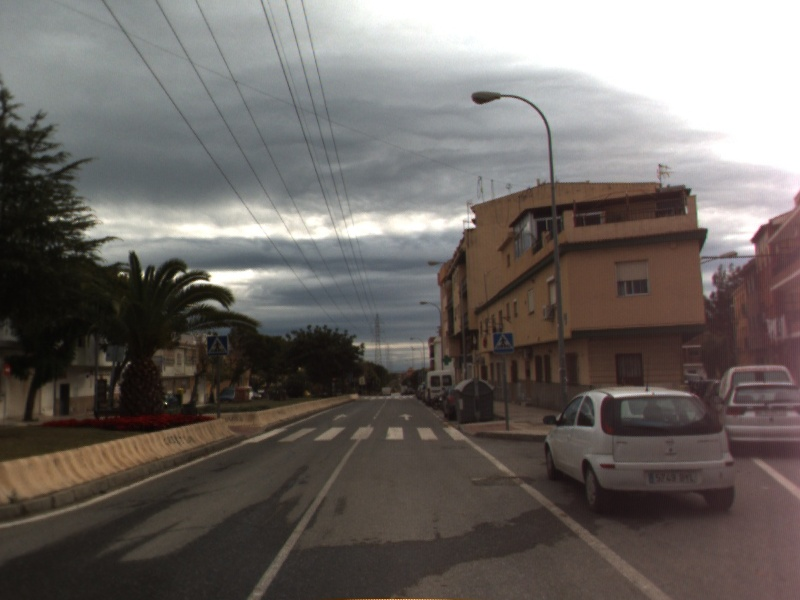STRAIGHT: (330, 411, 350, 423), (397, 411, 416, 422)
